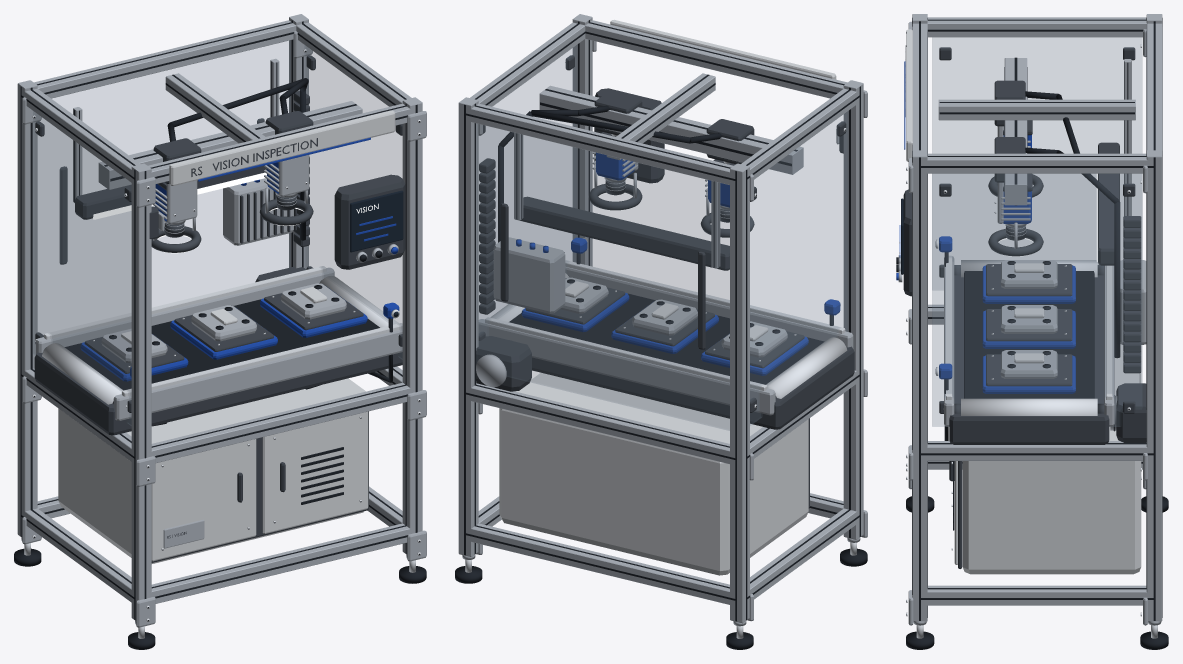
Rendered from asset.glb.
The picture shows the model from 3 angles, left to right: view 1: azimuth 30°, elevation 25°; view 2: azimuth 150°, elevation 25°; view 3: azimuth 270°, elevation 25°; orthographic projection. The views are drawn at different scales.
Parts seen in each view (by area): view 1: vision-station_silver, vision-station_glass, vision-station_white, vision-station_graphite, vision-station_rubber, vision-station_bright, vision-station_blue, vision-station_screen, vision-station_light; view 2: vision-station_glass, vision-station_silver, vision-station_white, vision-station_graphite, vision-station_rubber, vision-station_bright, vision-station_blue; view 3: vision-station_glass, vision-station_silver, vision-station_graphite, vision-station_white, vision-station_rubber, vision-station_bright, vision-station_blue.
Boxes of the visible parts, x1=… form: vision-station_silver: x1=17, y1=14, x2=426, y2=627; vision-station_glass: x1=33, y1=40, x2=402, y2=425; vision-station_white: x1=58, y1=110, x2=395, y2=563; vision-station_graphite: x1=34, y1=55, x2=405, y2=562; vision-station_rubber: x1=14, y1=20, x2=426, y2=649; vision-station_bright: x1=24, y1=49, x2=420, y2=638; vision-station_blue: x1=80, y1=137, x2=399, y2=381; vision-station_screen: x1=350, y1=190, x2=403, y2=316; vision-station_light: x1=92, y1=172, x2=378, y2=253; vision-station_glass: x1=476, y1=45, x2=847, y2=430; vision-station_silver: x1=458, y1=14, x2=867, y2=626; vision-station_white: x1=499, y1=19, x2=836, y2=575; vision-station_graphite: x1=476, y1=55, x2=854, y2=508; vision-station_rubber: x1=455, y1=20, x2=867, y2=649; vision-station_bright: x1=465, y1=62, x2=856, y2=638; vision-station_blue: x1=516, y1=152, x2=840, y2=375; vision-station_glass: x1=932, y1=37, x2=1142, y2=426; vision-station_silver: x1=898, y1=14, x2=1162, y2=625; vision-station_graphite: x1=903, y1=45, x2=1146, y2=568; vision-station_white: x1=906, y1=29, x2=1141, y2=574; vision-station_rubber: x1=896, y1=18, x2=1168, y2=649; vision-station_bright: x1=906, y1=44, x2=1157, y2=638; vision-station_blue: x1=896, y1=61, x2=1075, y2=393.
Size of the model in its own units: 1.36 by 2.03 by 1.02.
